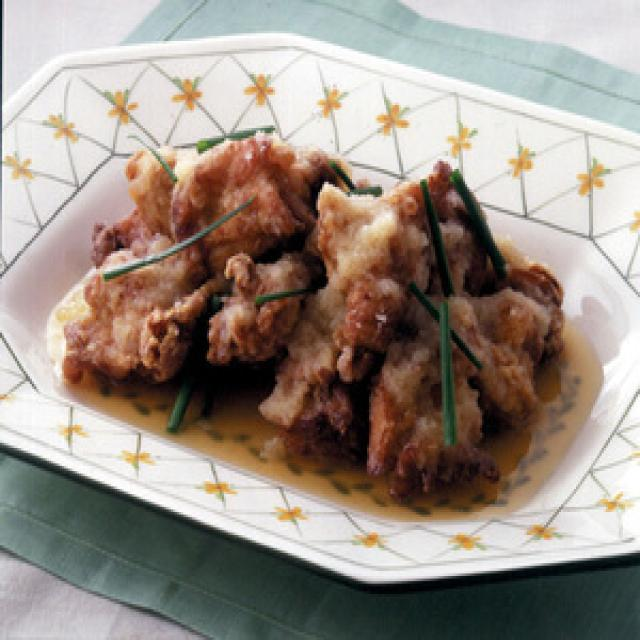鸡肉料理 含炸鸡: (12, 77, 634, 535)
